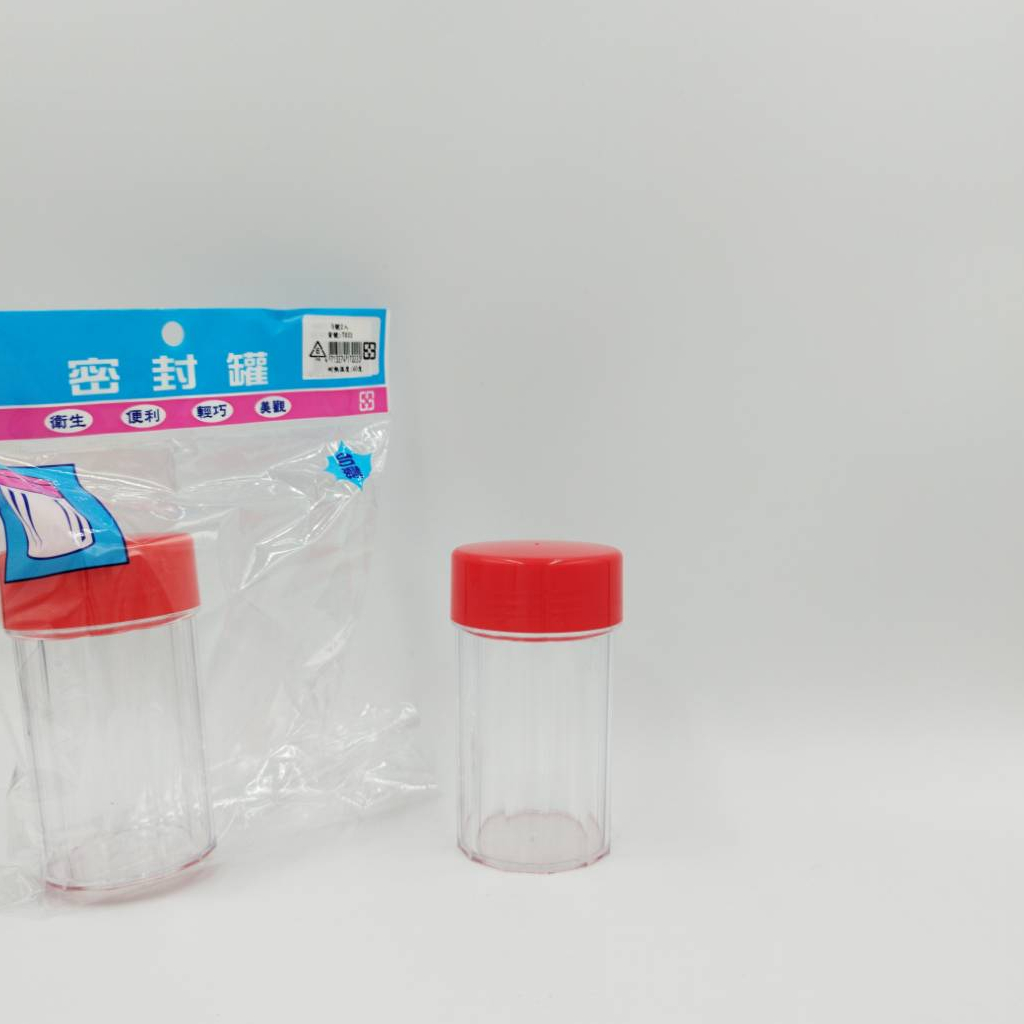medicinejar: (7, 537, 233, 901), (424, 529, 635, 884)
